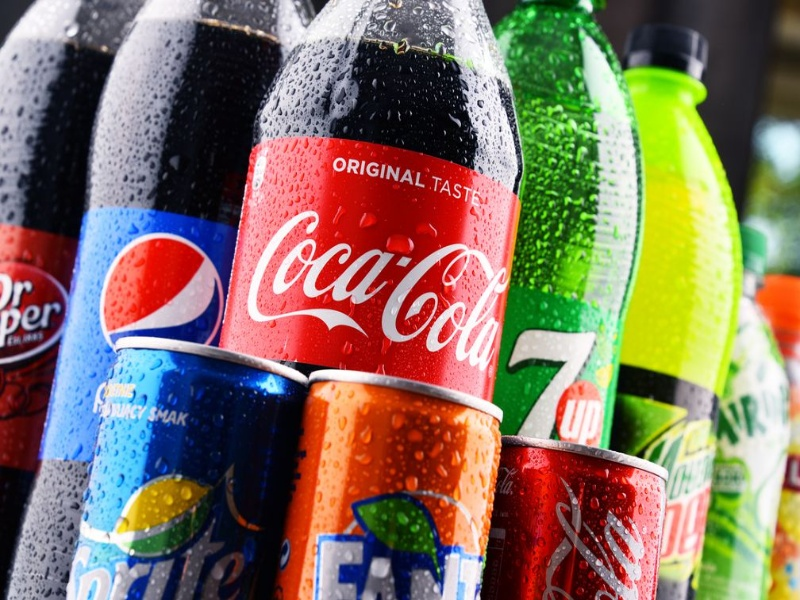Can: (73, 298, 314, 600), (261, 332, 510, 598), (457, 401, 676, 597)
Plastic bottle: (33, 20, 300, 590), (246, 4, 543, 383), (485, 5, 639, 437)
